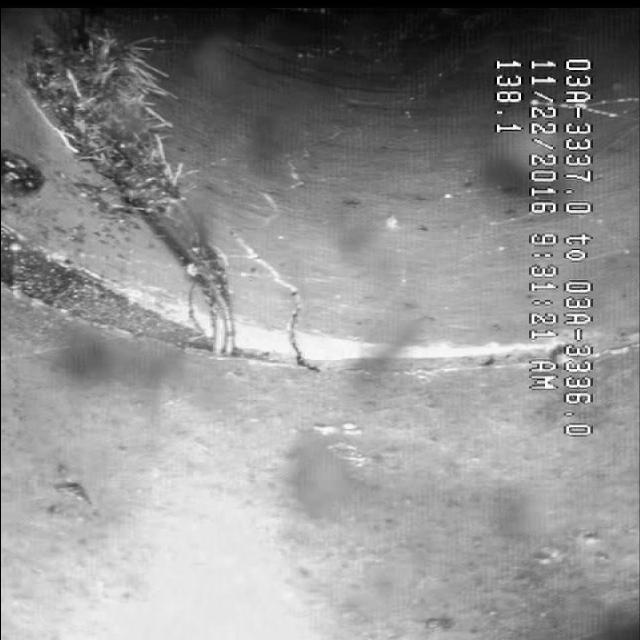Crack: (235, 236, 338, 378)
